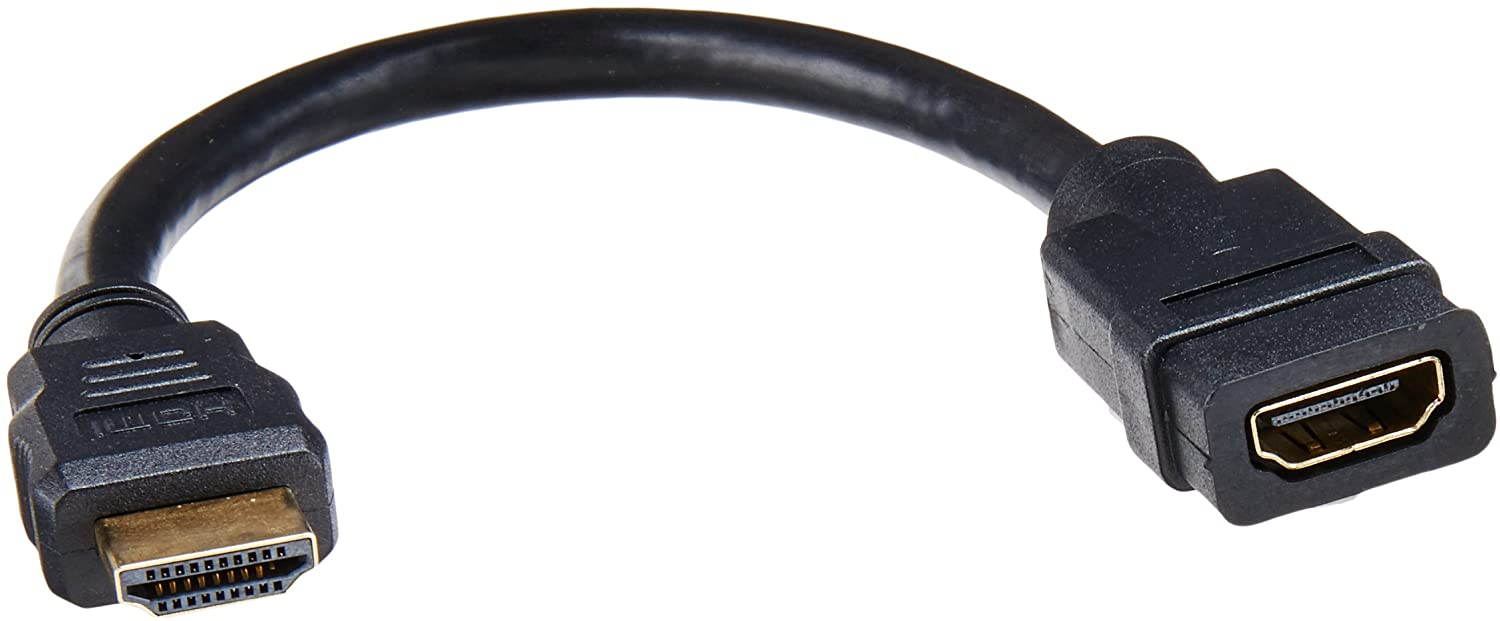hdmi_in: (1239, 346, 1460, 490)
hdmi_out: (91, 479, 336, 620)
